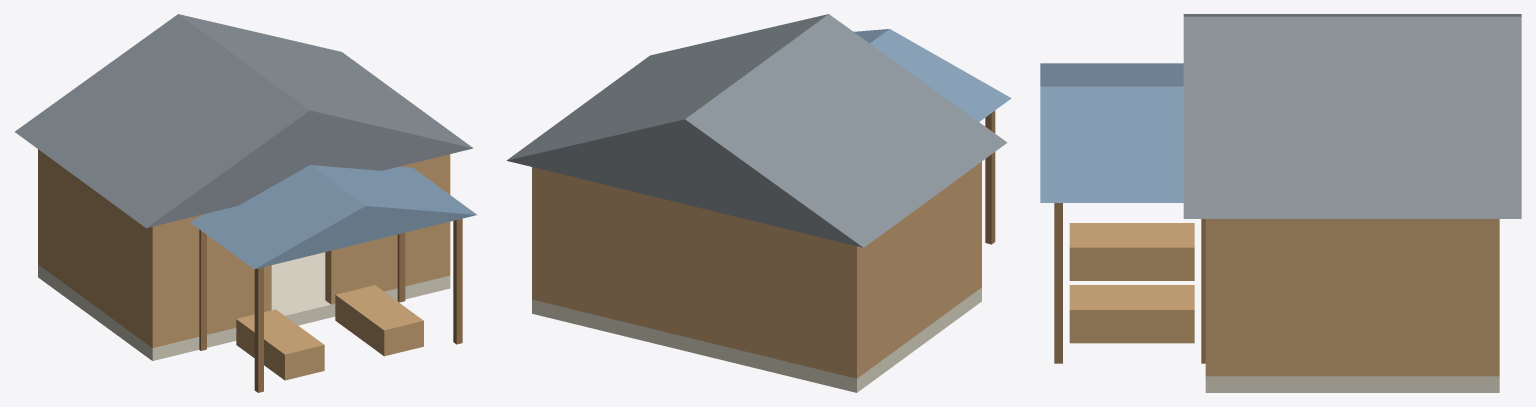
The model's file is infirmary.glb.
3 views of the same model, side by side, from view 1: azimuth 30°, elevation 25°; view 2: azimuth 150°, elevation 25°; view 3: azimuth 270°, elevation 25° (orthographic). The views are drawn at different scales.
Parts seen in each view (by area): view 1: infirmary; view 2: infirmary; view 3: infirmary.
Boxes of the visible parts, box(x1,y1,x2,y2) form: infirmary: box(15, 14, 476, 392); infirmary: box(506, 14, 1011, 392); infirmary: box(1040, 14, 1521, 392).
Bounding box in the file's own units: 6.6 × 4.25 × 6.55.
